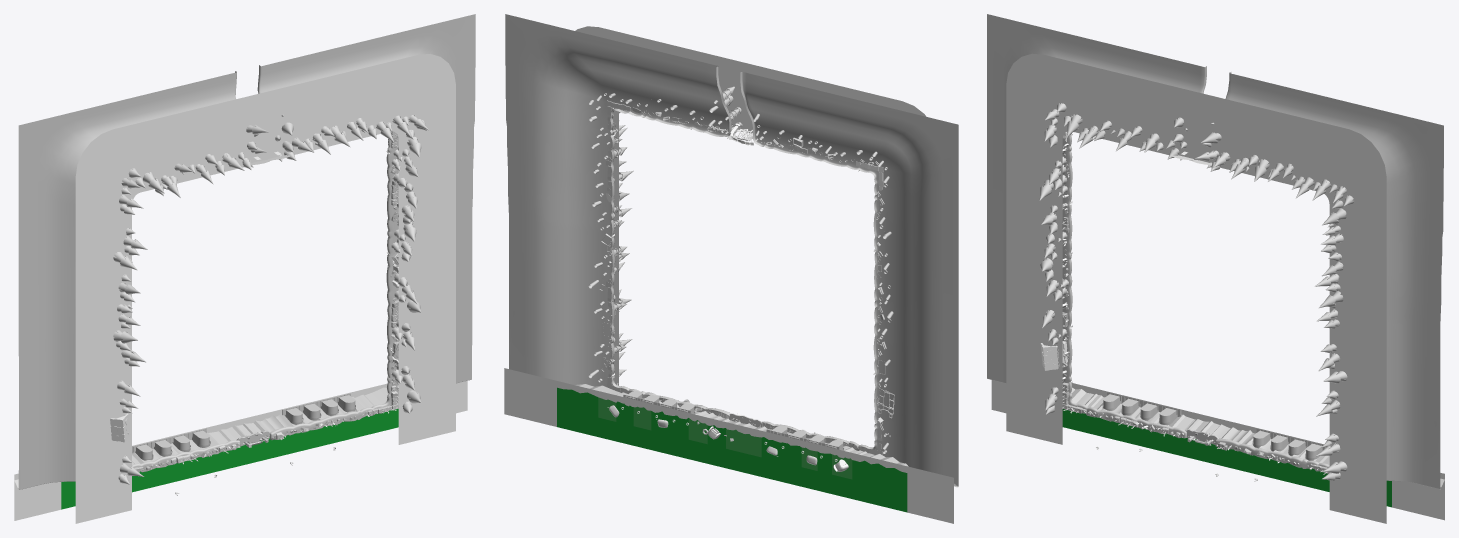
File: bgr_mortuary_showdown_geo.glb
The picture shows the model from 3 angles, left to right: view 1: azimuth 30°, elevation 25°; view 2: azimuth 150°, elevation 25°; view 3: azimuth 330°, elevation 25°; orthographic projection.
Visible parts, largest first — view 1: Ground.002, ground.001, water_plane; view 2: ground.001, water_plane, Ground.002; view 3: Ground.002, ground.001, water_plane, crypt.002.
Part boxes in pixels (x1,y1,x2,y2): Ground.002: (75, 54, 455, 523); ground.001: (14, 14, 475, 489); water_plane: (14, 380, 467, 520); ground.001: (505, 14, 958, 487); water_plane: (504, 368, 953, 523); Ground.002: (575, 26, 925, 385); Ground.002: (1006, 53, 1386, 523); ground.001: (987, 14, 1444, 489); water_plane: (991, 380, 1444, 520); crypt.002: (1040, 341, 1067, 370).
Size of the model in its own units: 105 by 87.41 by 17.65.
